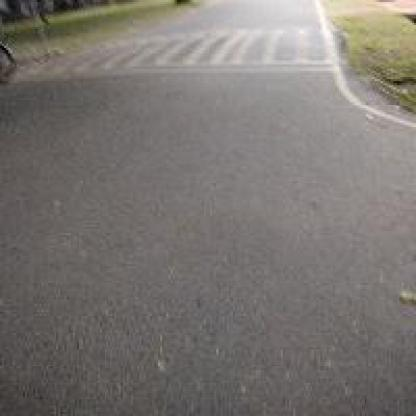Speed Bump: (13, 23, 330, 79)
